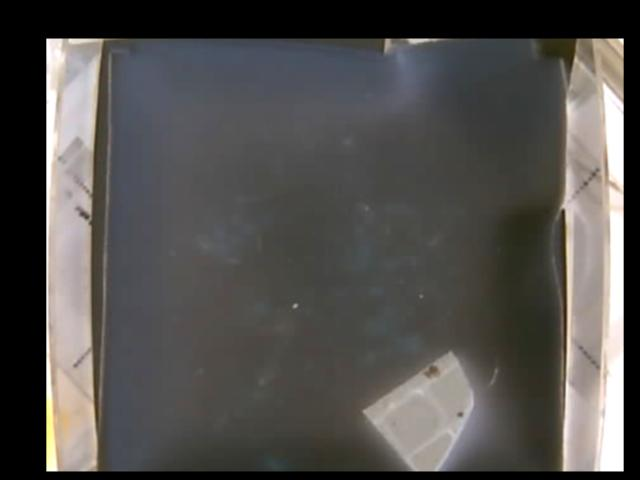China: (361, 347, 473, 471)
